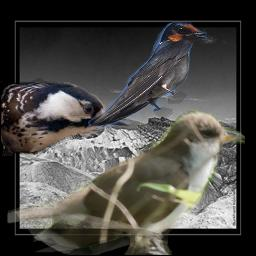Cuckoo: (7, 110, 245, 255)
Swallow: (88, 22, 207, 127)
Woodpecker: (1, 76, 130, 156)
